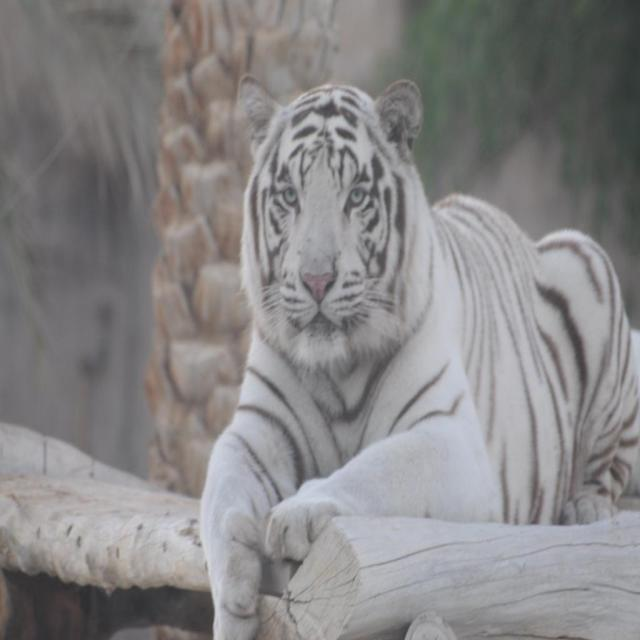Tiger: (196, 76, 640, 640)
